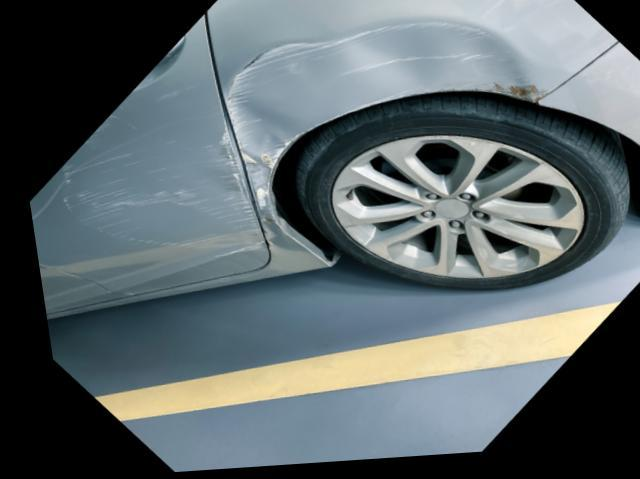dent: (222, 22, 532, 224)
rub: (51, 114, 259, 264)
